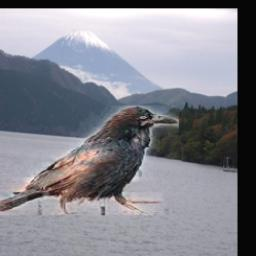Crow: (0, 107, 180, 216)
